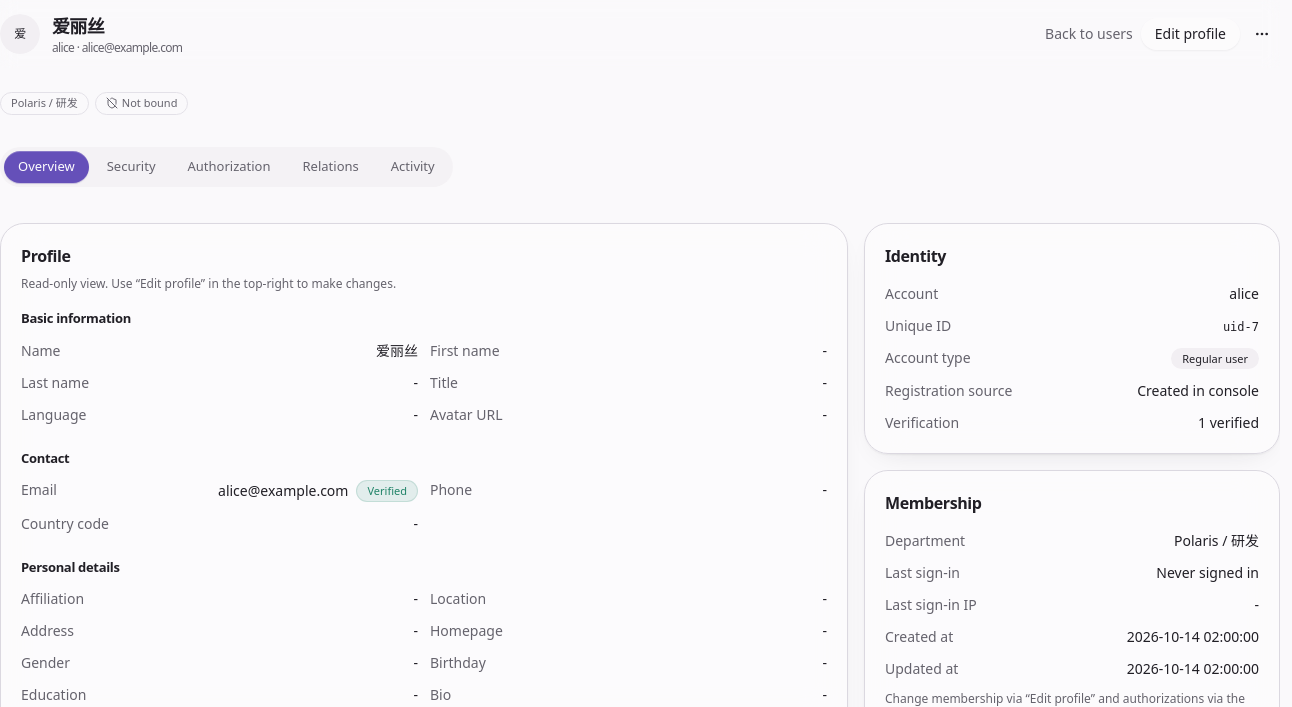
Test: UserDetailPage › 安全数据读不到时显式报错并可重试，不得显示空态
Click the tab "Security" at (131, 167), box [93, 151, 170, 182]
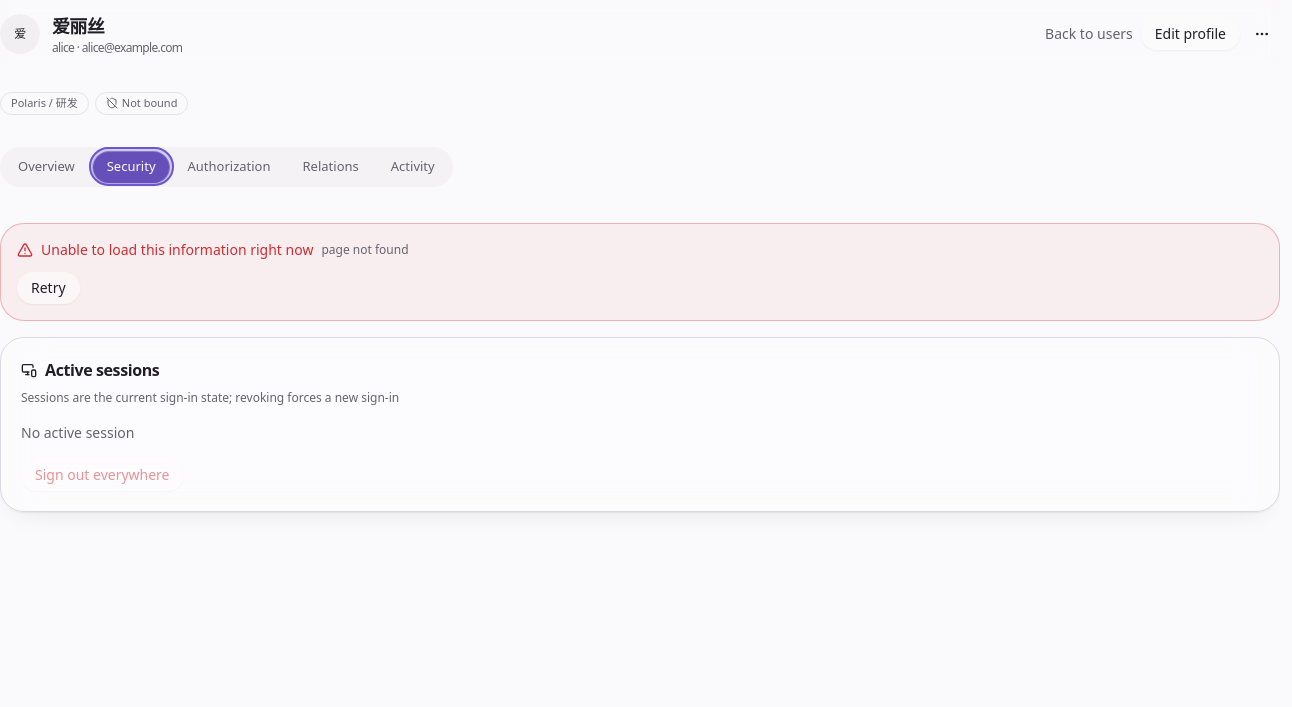
Expected: the text "Unable to load this information right now" is shown, [41, 240, 313, 260]
Expected: the number of buttons "Retry" is 1, [17, 272, 80, 304]
